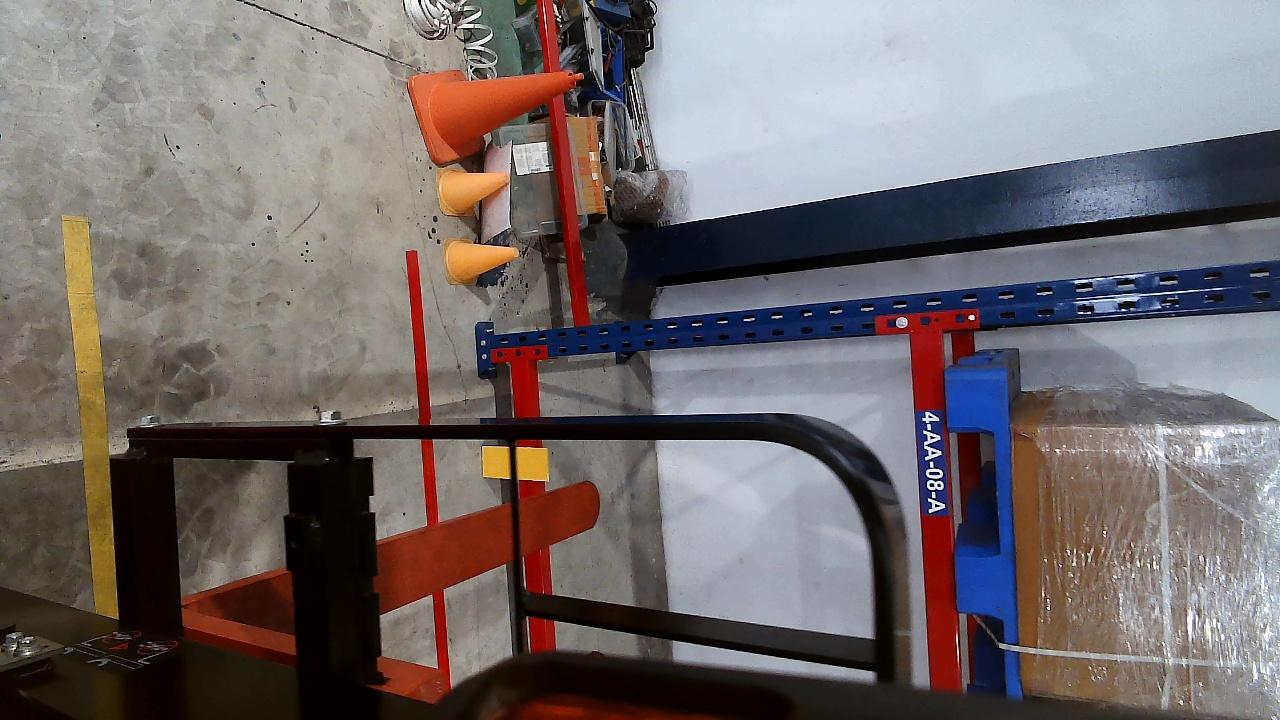h_rack: (906, 328, 963, 688), (514, 365, 561, 646)
red_line: (404, 249, 457, 666)
small_pallet: (945, 336, 1022, 668)
yellow_line: (59, 214, 120, 624)
